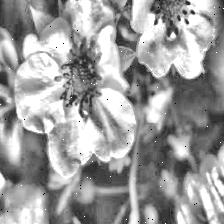Blossom Blight: (146, 0, 202, 38)
